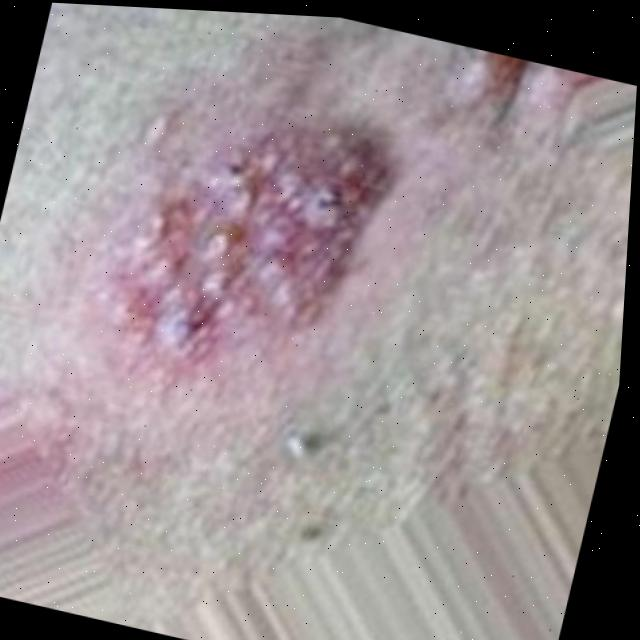Shingles: (117, 82, 403, 384)
